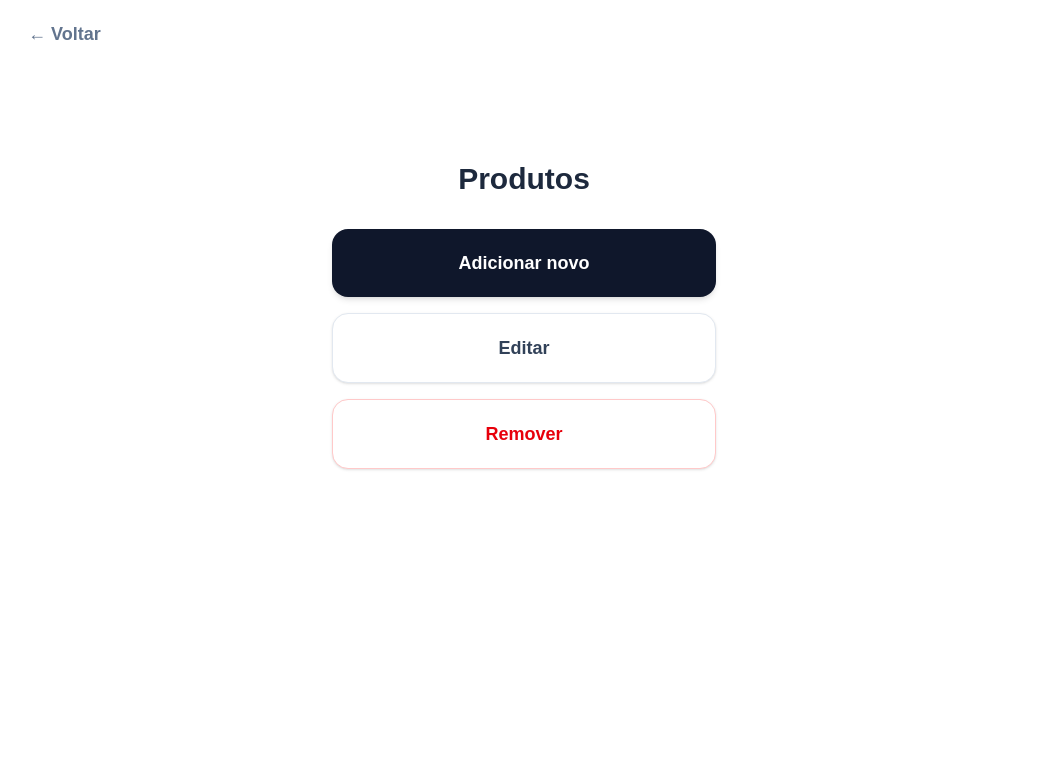
ProdutoHub › abre o ProdutoWizard de criação ao clicar em 'Adicionar novo'
The width and height of the screenshot is (1048, 780).
Click the button "Adicionar novo".
click(524, 263)  # box 332,229 -> 716,297
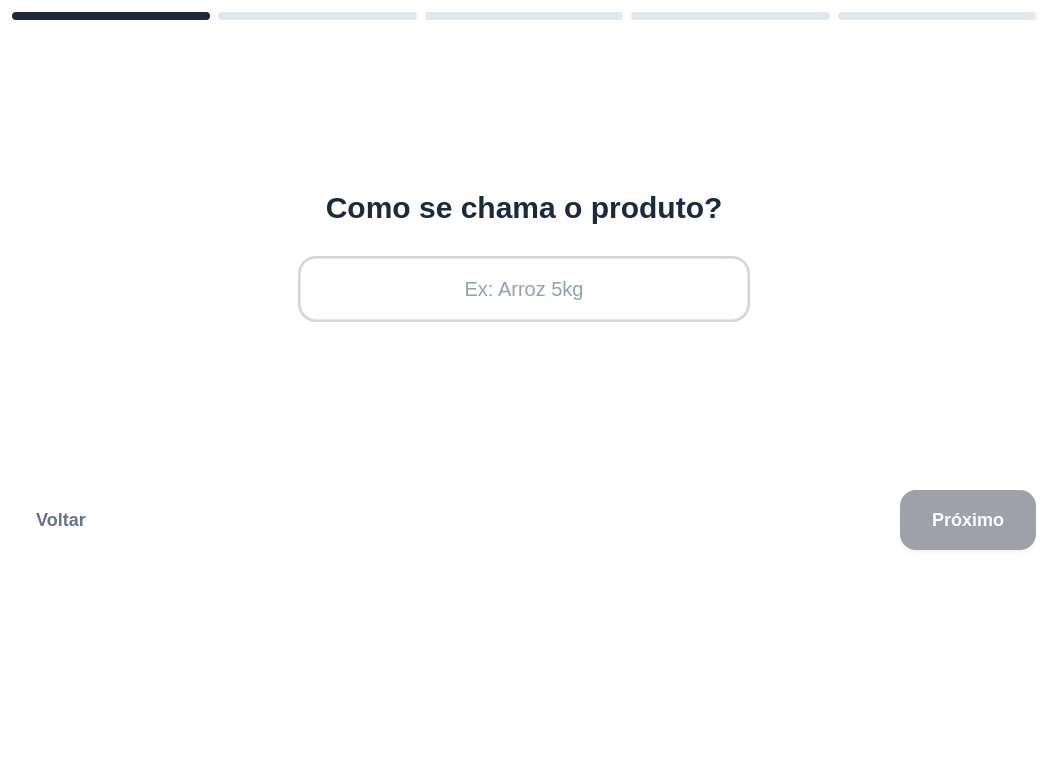
Expected: the heading "Como se chama o produto?" is shown, 326,190 -> 722,226
